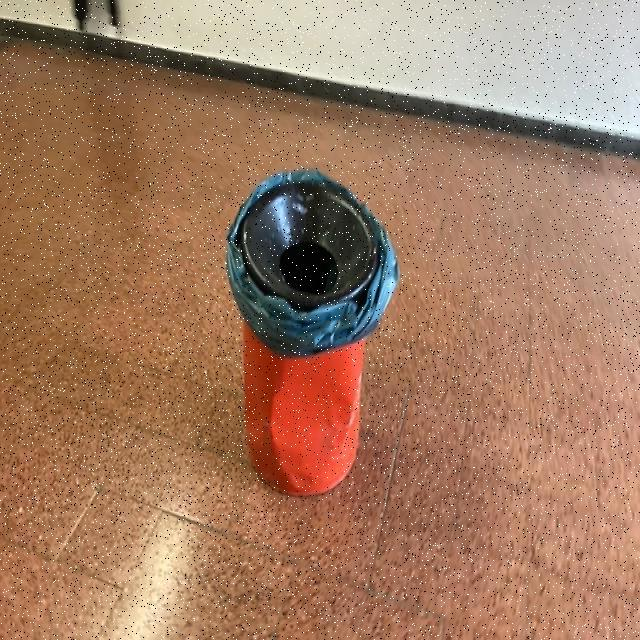garbage container: (204, 133, 428, 514)
